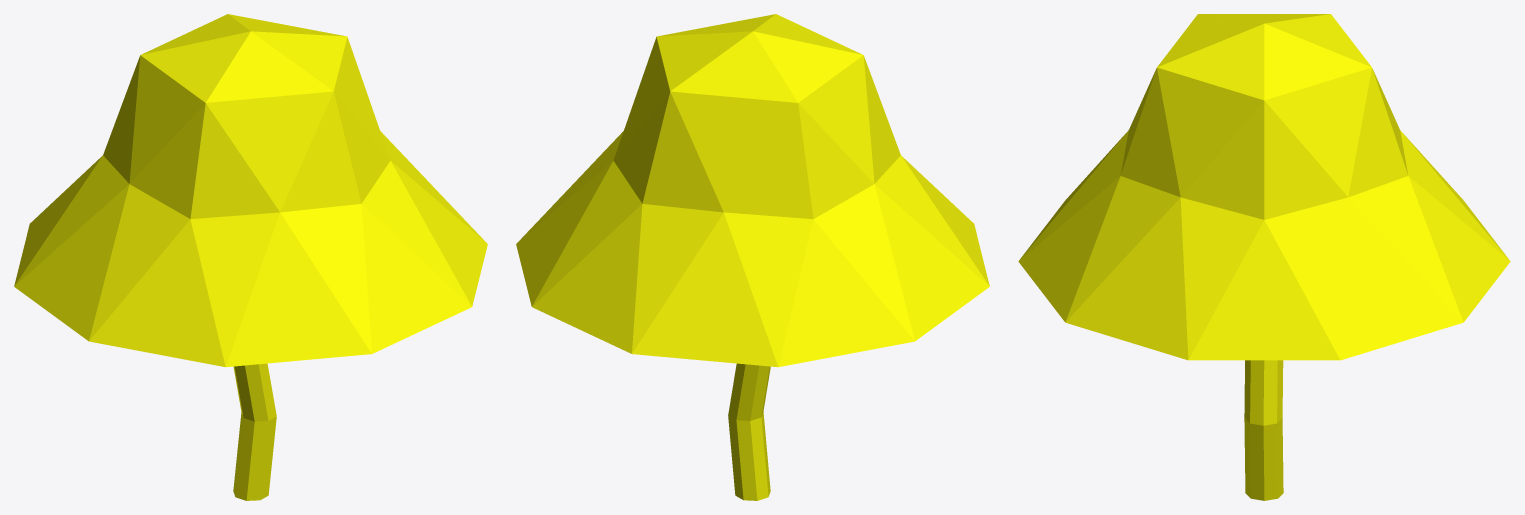
The model's file is hat_mushroom_brown.glb.
3 renders of one model, left to right at view 1: azimuth 30°, elevation 25°; view 2: azimuth 150°, elevation 25°; view 3: azimuth 270°, elevation 25°, orthographic.
Visible parts, largest first — view 1: hat_mushroom_brown; view 2: hat_mushroom_brown; view 3: hat_mushroom_brown.
Boxes of the visible parts, box(x1,y1,x2,y2) form: hat_mushroom_brown: box(14, 14, 487, 500); hat_mushroom_brown: box(516, 14, 989, 500); hat_mushroom_brown: box(1018, 14, 1510, 500).
Bounding box in the file's own units: 1.49 × 1.65 × 1.57.
1 material, 1 textured.
